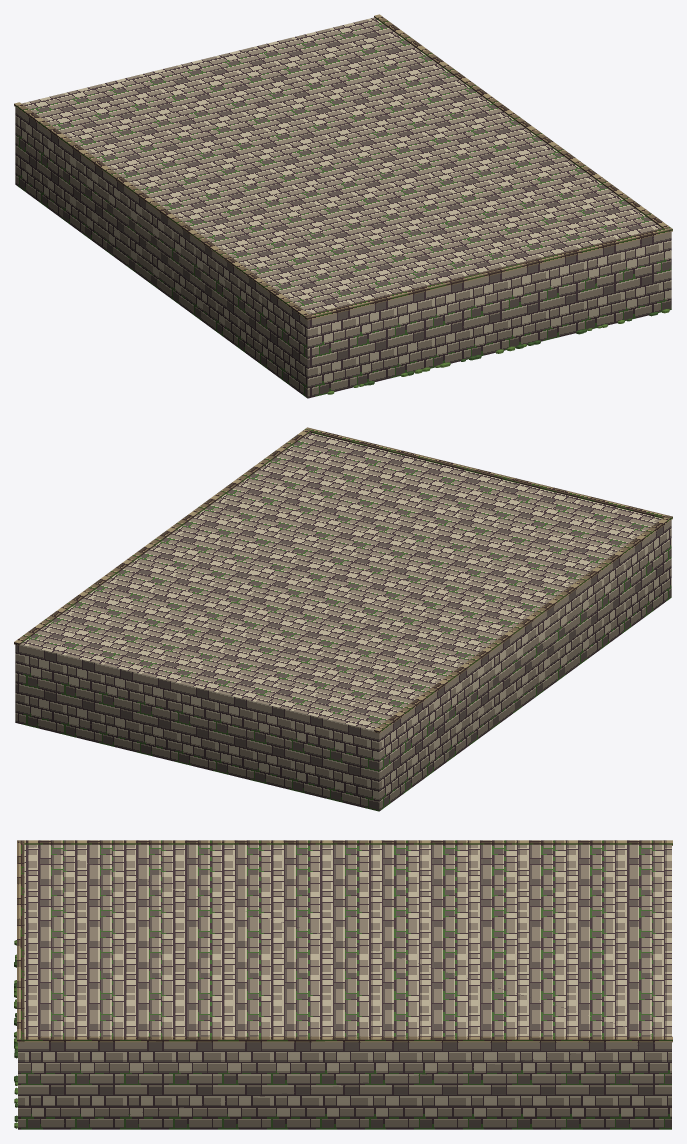
Rendered from scene_wall_w5.glb.
3 views of the same model, one above another, from view 1: azimuth 30°, elevation 25°; view 2: azimuth 150°, elevation 25°; view 3: azimuth 270°, elevation 25° (orthographic). The views are drawn at different scales.
Visible parts, largest first — view 1: scene_wall_w5; view 2: scene_wall_w5; view 3: scene_wall_w5.
Boxes of the visible parts, x1,y1,x2,y2 form: scene_wall_w5: [14, 14, 672, 398]; scene_wall_w5: [14, 427, 672, 811]; scene_wall_w5: [14, 840, 672, 1129].
Size of the model in its own units: 23.1 by 4.97 by 32.24.
Materials: 2 (1 with a texture image).
